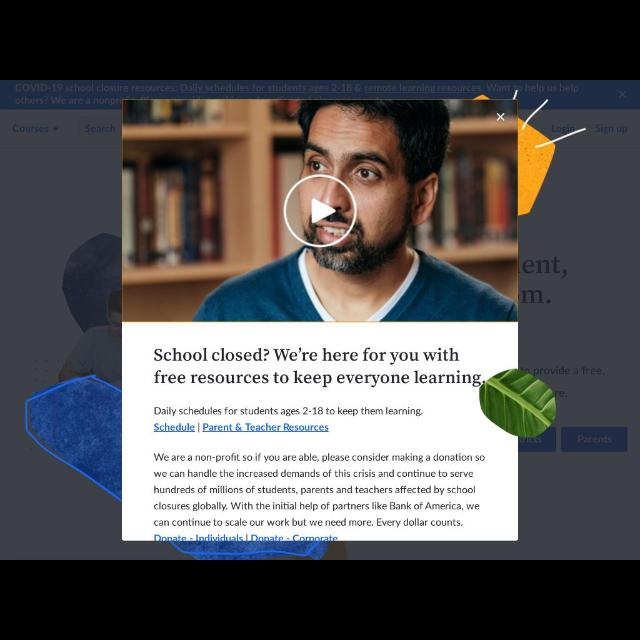backgroundimage: (1, 81, 639, 559)
image: (122, 100, 518, 322)
link: (203, 423, 329, 433), (153, 422, 195, 432)
text: (154, 369, 486, 386), (154, 348, 460, 364), (154, 502, 480, 512), (154, 485, 476, 495), (154, 518, 463, 528), (153, 453, 484, 462), (155, 407, 423, 417), (154, 470, 473, 478), (154, 423, 328, 433), (154, 535, 338, 541)
